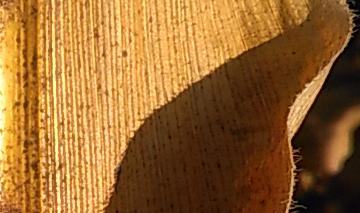tarspot: (20, 16, 30, 70), (108, 164, 123, 196), (29, 39, 43, 69), (30, 159, 42, 181), (91, 23, 102, 41), (27, 4, 39, 16), (108, 40, 120, 51), (100, 41, 107, 59), (164, 175, 173, 189), (14, 27, 21, 44), (22, 95, 30, 109), (21, 69, 29, 82), (95, 82, 103, 93), (22, 137, 29, 149), (213, 161, 222, 170), (165, 132, 174, 141), (21, 81, 30, 90), (121, 49, 129, 59), (151, 153, 159, 162), (218, 124, 226, 132), (290, 49, 297, 57), (113, 206, 121, 213), (168, 201, 175, 209), (21, 148, 29, 155), (31, 71, 38, 79), (147, 15, 153, 24), (202, 145, 208, 154), (192, 123, 199, 130), (99, 19, 105, 27), (29, 153, 37, 159), (31, 80, 38, 86), (1, 1, 4, 8)
